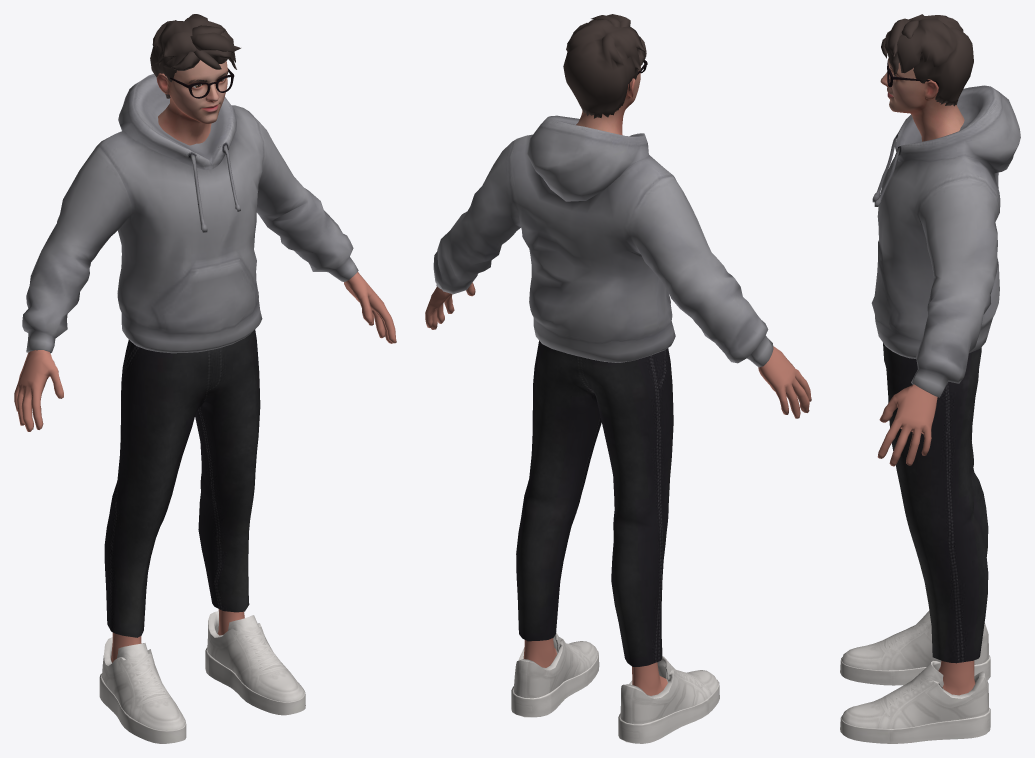
The model's file is avatar.glb.
The picture shows the model from 3 angles, left to right: view 1: azimuth 30°, elevation 25°; view 2: azimuth 150°, elevation 25°; view 3: azimuth 270°, elevation 25°; orthographic projection.
Parts seen in each view (by area): view 1: Wolf3D_Outfit_Top, Wolf3D_Outfit_Bottom, Wolf3D_Outfit_Footwear, Wolf3D_Body, Wolf3D_Head, Wolf3D_Hair; view 2: Wolf3D_Outfit_Top, Wolf3D_Outfit_Bottom, Wolf3D_Outfit_Footwear, Wolf3D_Hair, Wolf3D_Body, Wolf3D_Head; view 3: Wolf3D_Outfit_Top, Wolf3D_Outfit_Bottom, Wolf3D_Outfit_Footwear, Wolf3D_Hair, Wolf3D_Body, Wolf3D_Head.
Boxes of the visible parts, x1,y1,x2,y2 form: Wolf3D_Outfit_Top: (22,74,358,353); Wolf3D_Outfit_Bottom: (104,329,260,637); Wolf3D_Outfit_Footwear: (99,611,305,743); Wolf3D_Body: (14,272,396,662); Wolf3D_Head: (156,60,228,145); Wolf3D_Hair: (150,14,240,98); Wolf3D_Outfit_Top: (433,115,773,367); Wolf3D_Outfit_Bottom: (516,340,673,666); Wolf3D_Outfit_Footwear: (511,632,719,743); Wolf3D_Hair: (563,14,646,118); Wolf3D_Body: (425,282,811,695); Wolf3D_Head: (576,66,640,135); Wolf3D_Outfit_Top: (871,85,1020,397); Wolf3D_Outfit_Bottom: (883,343,988,663); Wolf3D_Outfit_Footwear: (840,611,990,743); Wolf3D_Hair: (881,14,973,106); Wolf3D_Body: (877,384,975,695); Wolf3D_Head: (880,58,964,141).
Bounding box in the file's own units: 1.06 × 1.86 × 0.4455.
Materials: 9 (9 with a texture image).
